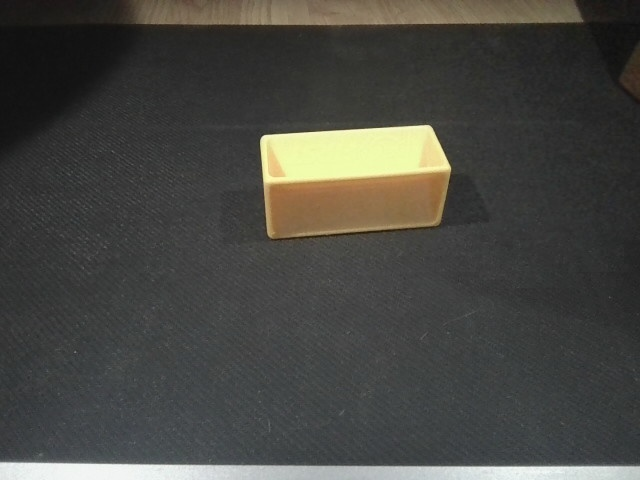YellowSample: (248, 122, 453, 243)
